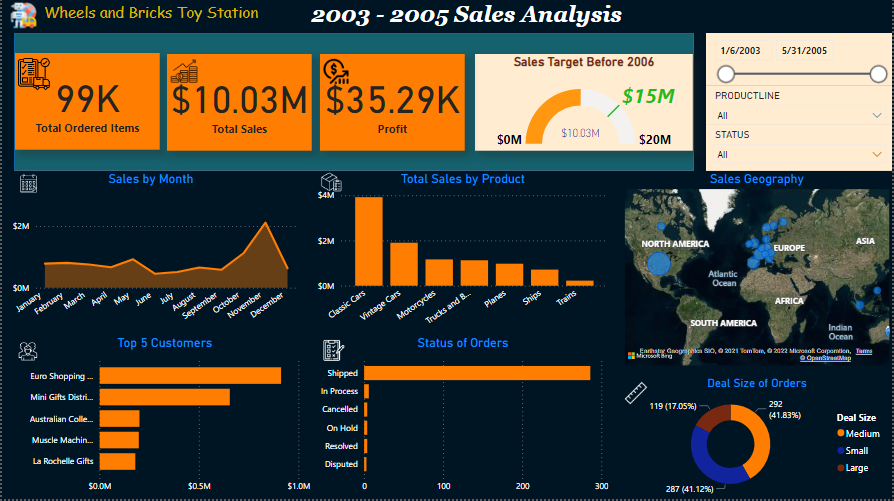

The dashboard page shown, as its layout file describes it:
{"tool":"powerbi","page":{"name":"Dashboard","canvas":[1280,720],"ordinal":0},"visuals":[{"type":"image","box":[0,0,61.8,50.3],"z":0},{"type":"textbox","box":[0,0,428.3,50.3],"z":1000},{"type":"shape","box":[17.2,50.3,977.2,198.3],"z":2000},{"type":"card","fields":{"Values":["sales_data_sample.Total Ordered Items"]},"box":[18.7,79,208.4,139.4],"z":3000},{"type":"card","fields":{"Values":["sales_data_sample.Total Sales"]},"box":[237.1,80.5,208.4,139.4],"z":4000},{"type":"gauge","title":"Sales Target Before 2006","fields":{"TargetValue":["sales_data_sample.Goal before 2006"],"MaxValue":["sales_data_sample.Max"],"Y":["Sum(sales_data_sample.SALES)"]},"box":[679.8,80.5,313.3,139.4],"z":5000},{"type":"areaChart","title":"Sales by Month","fields":{"Category":["Date.Date.Variation.Date Hierarchy.Year","Date.Date.Variation.Date Hierarchy.Quarter","Date.Date.Variation.Date Hierarchy.Month","Date.Date.Variation.Date Hierarchy.Day"],"Y":["Sum(sales_data_sample.SALES)"]},"box":[0,248.6,428.3,235.7],"z":6000},{"type":"slicer","fields":{"Values":["sales_data_sample.PRODUCTLINE"]},"box":[1011.7,126.5,268.7,56],"z":7000},{"type":"slicer","fields":{"Values":["sales_data_sample.STATUS"]},"box":[1011.7,182.5,268.7,66.1],"z":8000},{"type":"barChart","title":"Top 5 Customers","fields":{"Category":["sales_data_sample.CUSTOMERNAME"],"Y":["Sum(sales_data_sample.SALES)"]},"box":[20.1,484.3,428.3,235.7],"z":9000},{"type":"clusteredColumnChart","title":"Total Sales by Product","fields":{"Category":["sales_data_sample.PRODUCTLINE"],"Y":["sales_data_sample.Total Sales"]},"box":[448.4,248.6,428.3,235.7],"z":10000},{"type":"donutChart","title":"Deal Size of Orders","fields":{"Category":["sales_data_sample.DEALSIZE"],"Y":["sales_data_sample.Total Order N"]},"box":[889.6,543.2,390.9,176.8],"z":11000},{"type":"map","title":"Sales Geography","fields":{"Size":["Sum(sales_data_sample.SALES)"],"Category":["sales_data_sample.COUNTRY"]},"box":[889.6,248.6,390.9,284.6],"z":12000},{"type":"clusteredBarChart","title":"Status of Orders","fields":{"Category":["sales_data_sample.STATUS"],"Y":["sales_data_sample.Total Order N"]},"box":[448.4,484.3,428.3,235.7],"z":13000},{"type":"slicer","fields":{"Values":["sales_data_sample.Date"]},"box":[1011.7,50.3,268.7,76.2],"z":14000},{"type":"card","fields":{"Values":["sales_data_sample.Profit"]},"box":[457,80.5,208.4,139.4],"z":15000},{"type":"textbox","box":[362.2,0,610.8,50.3],"z":16000},{"type":"image","box":[17.2,80.5,57.5,57.5],"z":17000},{"type":"image","box":[237.1,80.5,48.9,48.9],"z":18000},{"type":"image","box":[457,80.5,46,48.9],"z":19000},{"type":"image","box":[20.1,248.6,35.9,35.9],"z":20000},{"type":"image","box":[448.4,244.3,48.9,40.2],"z":21000},{"type":"image","box":[18.7,484.3,37.4,47.4],"z":22000},{"type":"image","box":[889.6,543.2,43.1,48.9],"z":23000},{"type":"image","box":[457,481.4,40.2,50.3],"z":24000}]}

Visuals, with their boxes in screenshot pixels (x1, y1, x2, y2), scaled from the page's 1280x720 canvas onto the 894x501 screenshot:
image: 0 0 43 35
textbox: 0 0 299 35
shape: 12 35 695 173
card - sales_data_sample.Total Ordered Items: 13 55 159 152
card - sales_data_sample.Total Sales: 166 56 311 153
"Sales Target Before 2006" gauge: 475 56 694 153
"Sales by Month" areaChart: 0 173 299 337
slicer - sales_data_sample.PRODUCTLINE: 707 88 893 127
slicer - sales_data_sample.STATUS: 707 127 893 173
"Top 5 Customers" barChart: 14 337 313 500
"Total Sales by Product" clusteredColumnChart: 313 173 612 337
"Deal Size of Orders" donutChart: 621 378 893 500
"Sales Geography" map: 621 173 893 371
"Status of Orders" clusteredBarChart: 313 337 612 500
slicer - sales_data_sample.Date: 707 35 893 88
card - sales_data_sample.Profit: 319 56 465 153
textbox: 253 0 680 35
image: 12 56 52 96
image: 166 56 200 90
image: 319 56 351 90
image: 14 173 39 198
image: 313 170 347 198
image: 13 337 39 370
image: 621 378 651 412
image: 319 335 347 370
